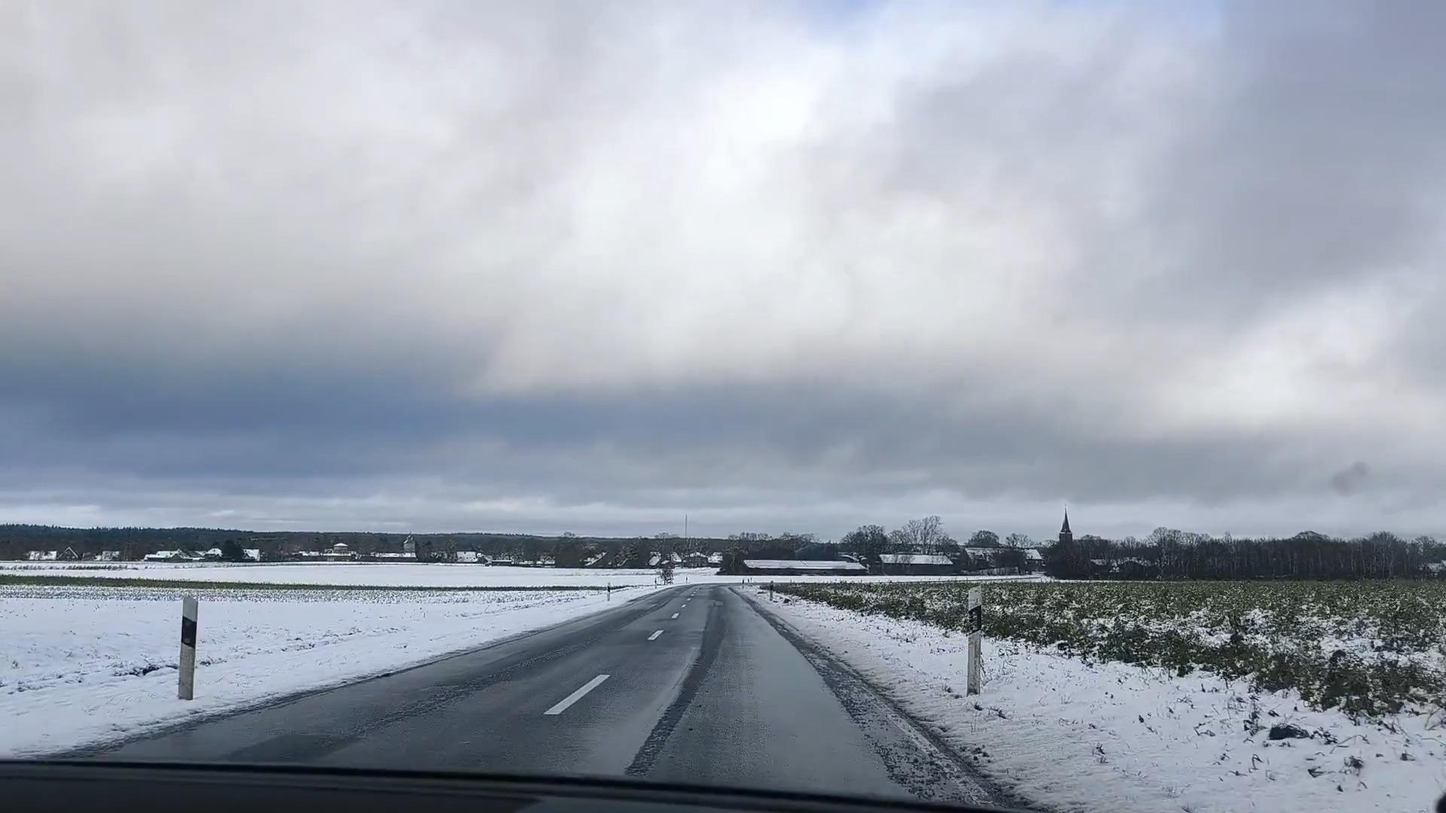Snow: (754, 587, 1445, 812), (0, 584, 650, 758)
wet: (56, 583, 955, 802)
